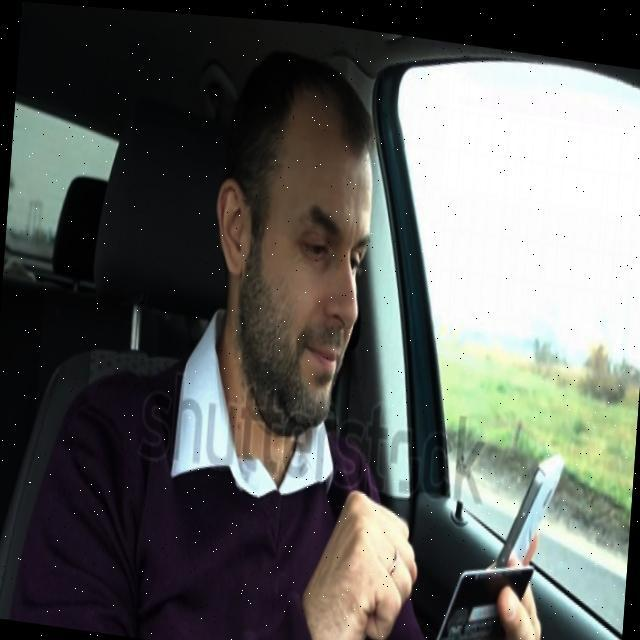PhoneCall: (489, 436, 564, 560)
